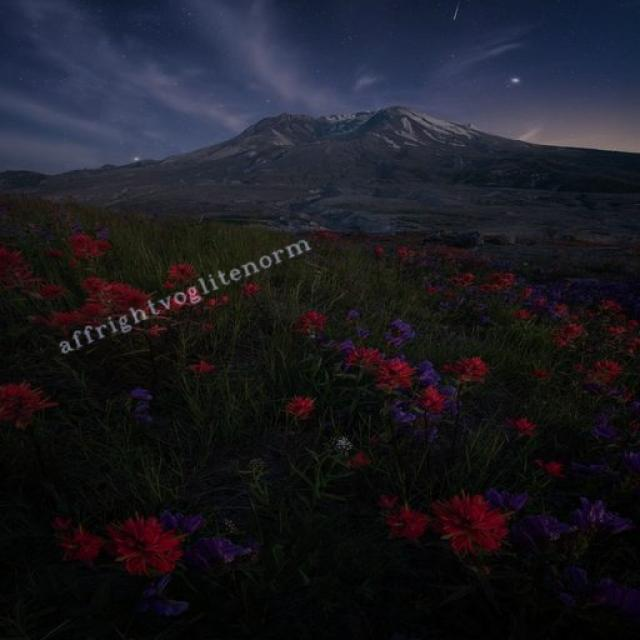watermark: (54, 230, 312, 357)
